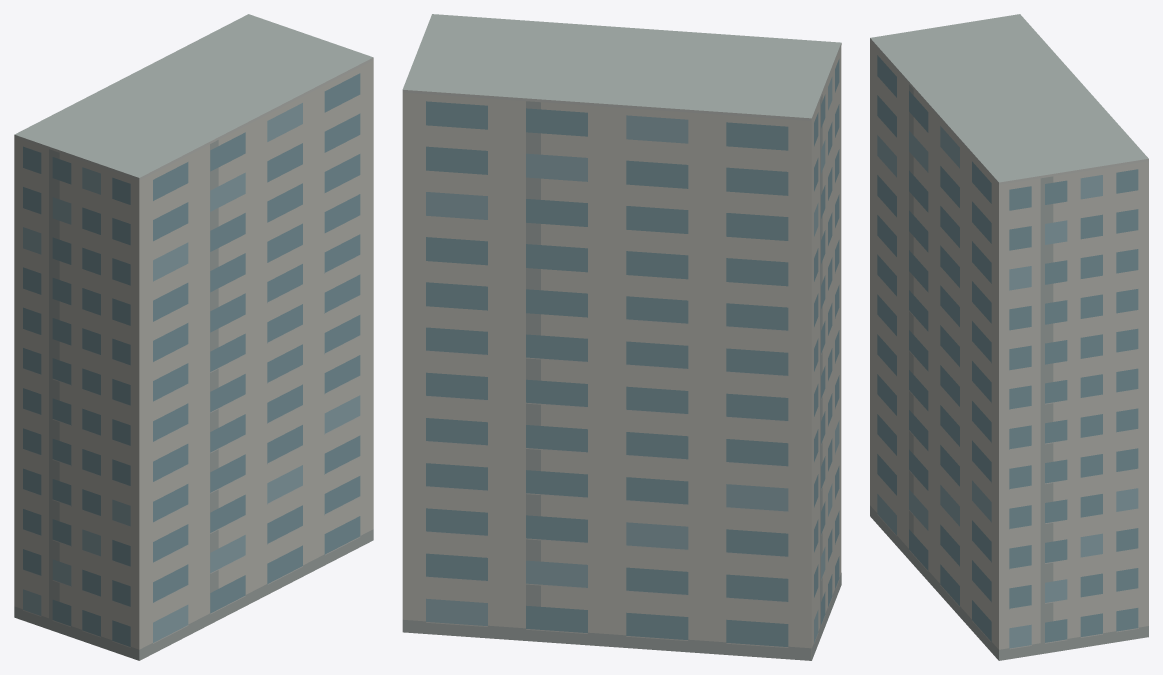
File: residential-43211740-f220-478e-9aa3-e0122aabebd6.glb
The picture shows the model from 3 angles, left to right: view 1: azimuth 30°, elevation 25°; view 2: azimuth 150°, elevation 25°; view 3: azimuth 270°, elevation 25°; orthographic projection. The views are drawn at different scales.
Parts seen in each view (by area): view 1: residential-43211740-f220-478e-9aa3-e0122aabebd6.tmp; view 2: residential-43211740-f220-478e-9aa3-e0122aabebd6.tmp; view 3: residential-43211740-f220-478e-9aa3-e0122aabebd6.tmp.
Part boxes in pixels (left/top/right/bottom): residential-43211740-f220-478e-9aa3-e0122aabebd6.tmp: left=14, top=14, right=373, bottom=660; residential-43211740-f220-478e-9aa3-e0122aabebd6.tmp: left=402, top=14, right=841, bottom=660; residential-43211740-f220-478e-9aa3-e0122aabebd6.tmp: left=870, top=14, right=1148, bottom=660.
Size of the model in its own units: 35.52 by 47 by 24.84.
